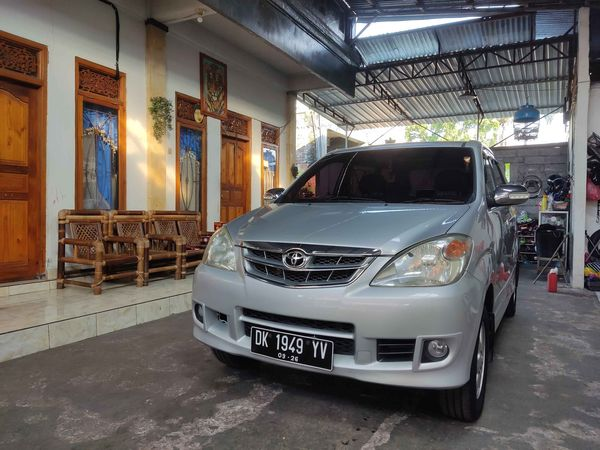plate: (248, 322, 337, 377)
